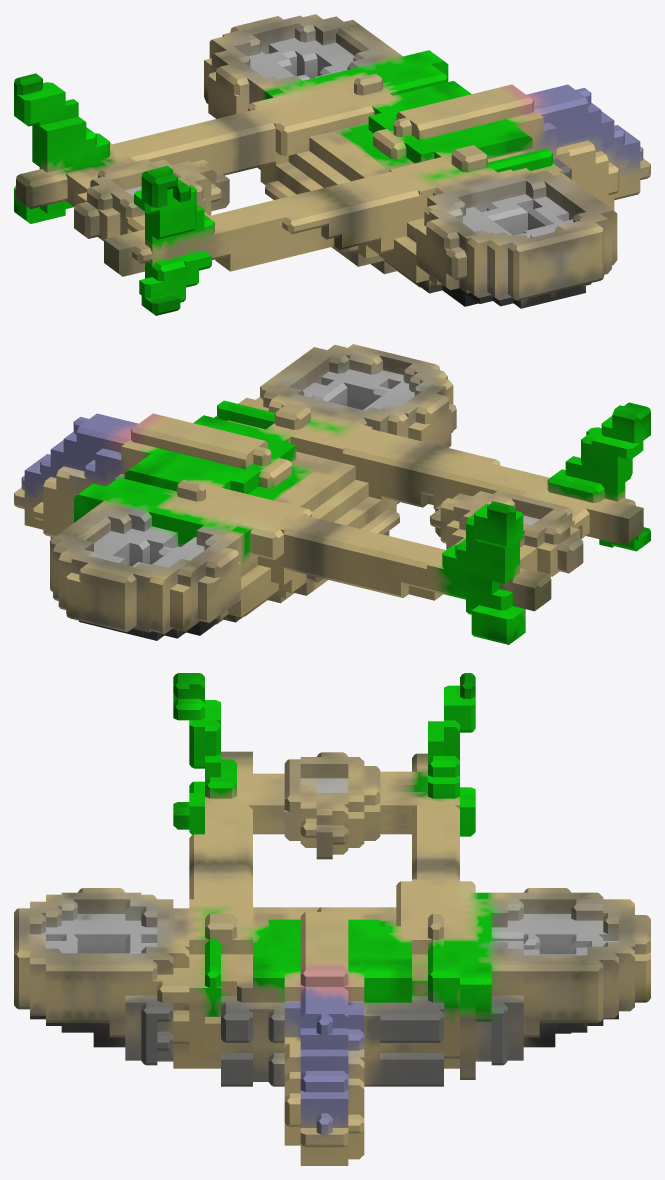
Rendered from orca-bomber.glb.
3 renders of one model, top to bottom at view 1: azimuth 30°, elevation 25°; view 2: azimuth 150°, elevation 25°; view 3: azimuth 270°, elevation 25°, orthographic. The views are drawn at different scales.
Parts seen in each view (by area): view 1: hull_dummy01; view 2: hull_dummy01; view 3: hull_dummy01.
Part boxes in pixels (x1,y1,x2,y2): hull_dummy01: (14, 14, 650, 315); hull_dummy01: (14, 344, 650, 644); hull_dummy01: (14, 673, 650, 1165).
Bounding box in the file's own units: 1.41 × 0.5164 × 1.28.
